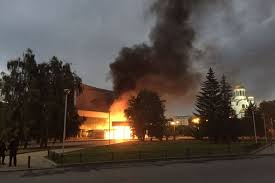fire: (103, 99, 173, 143)
